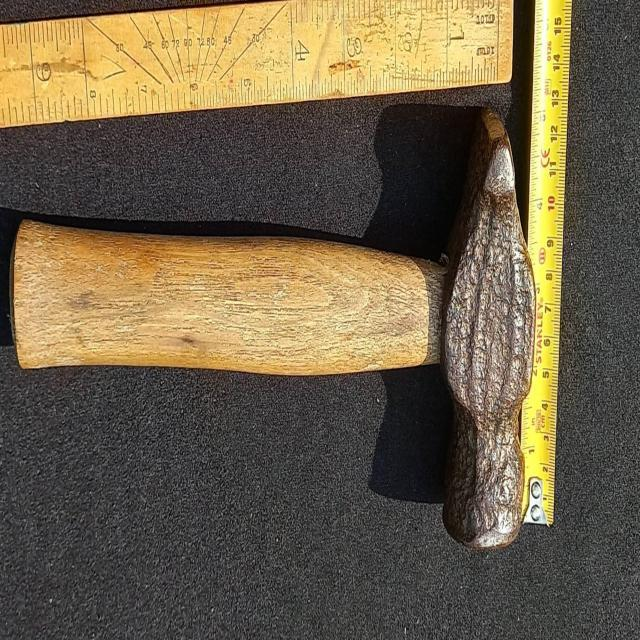hammer: (9, 102, 540, 562)
